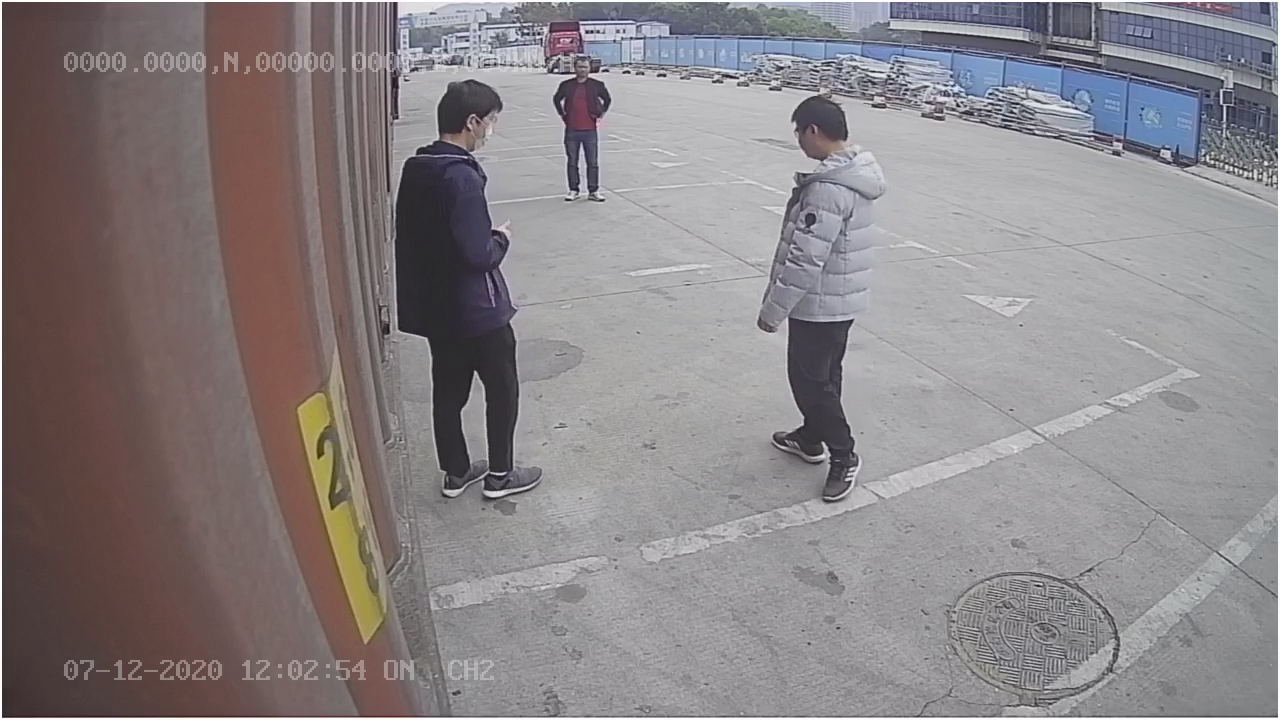person: (760, 94, 886, 504)
